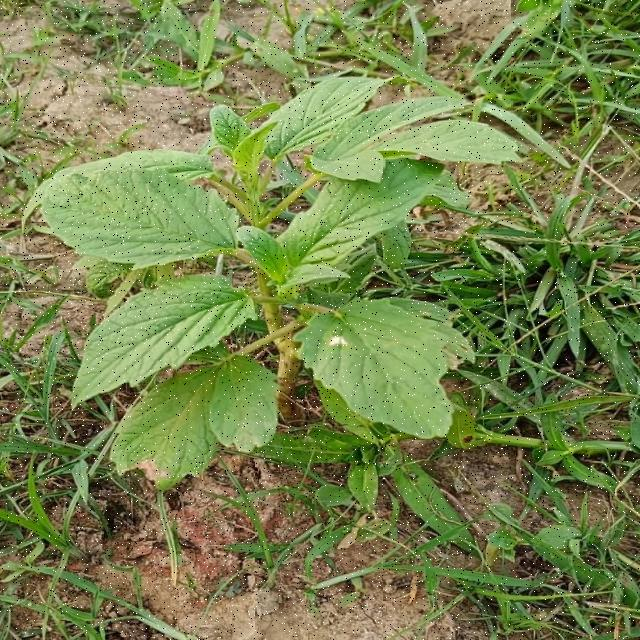plant: (38, 78, 518, 486)
